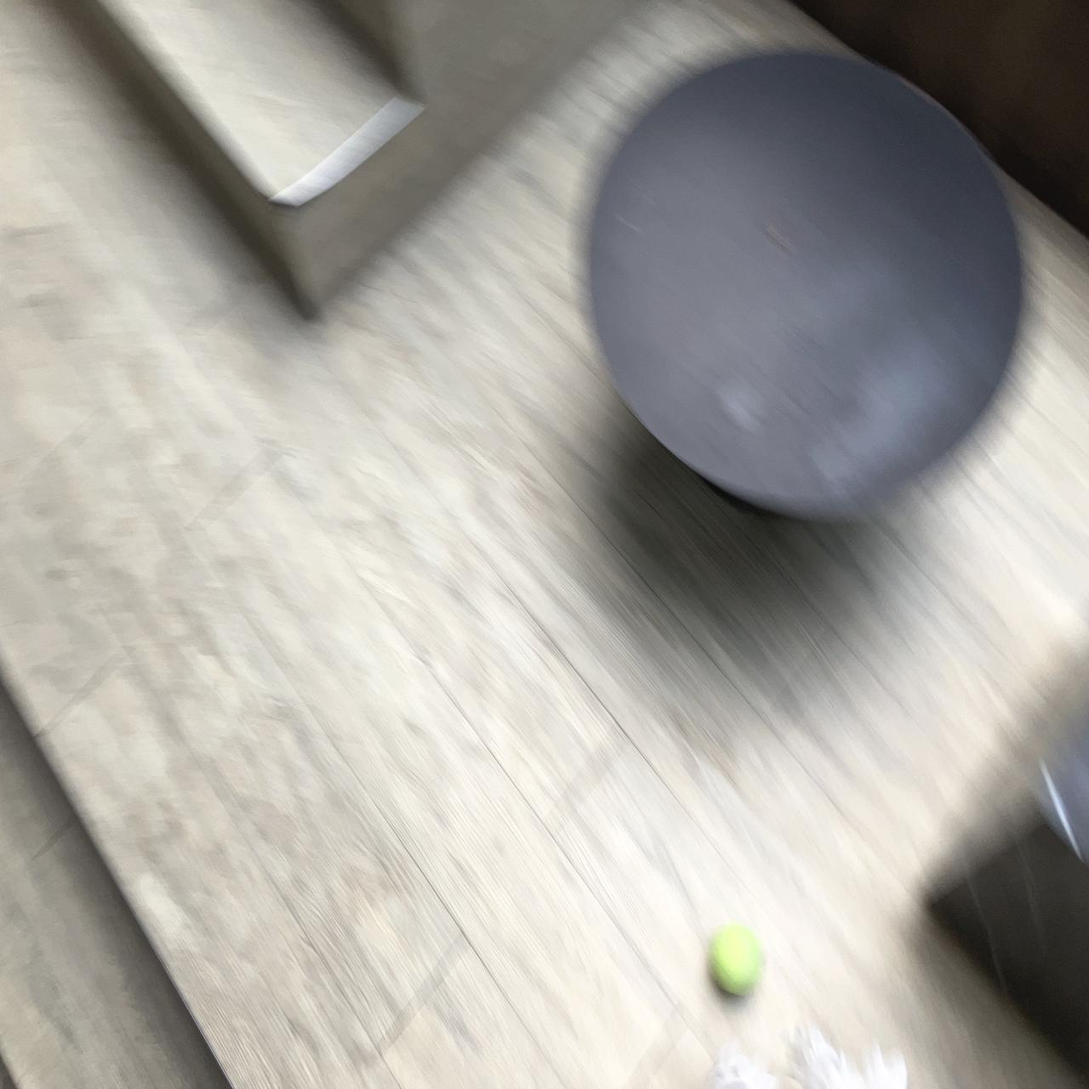tennisball: (710, 925, 763, 995)
